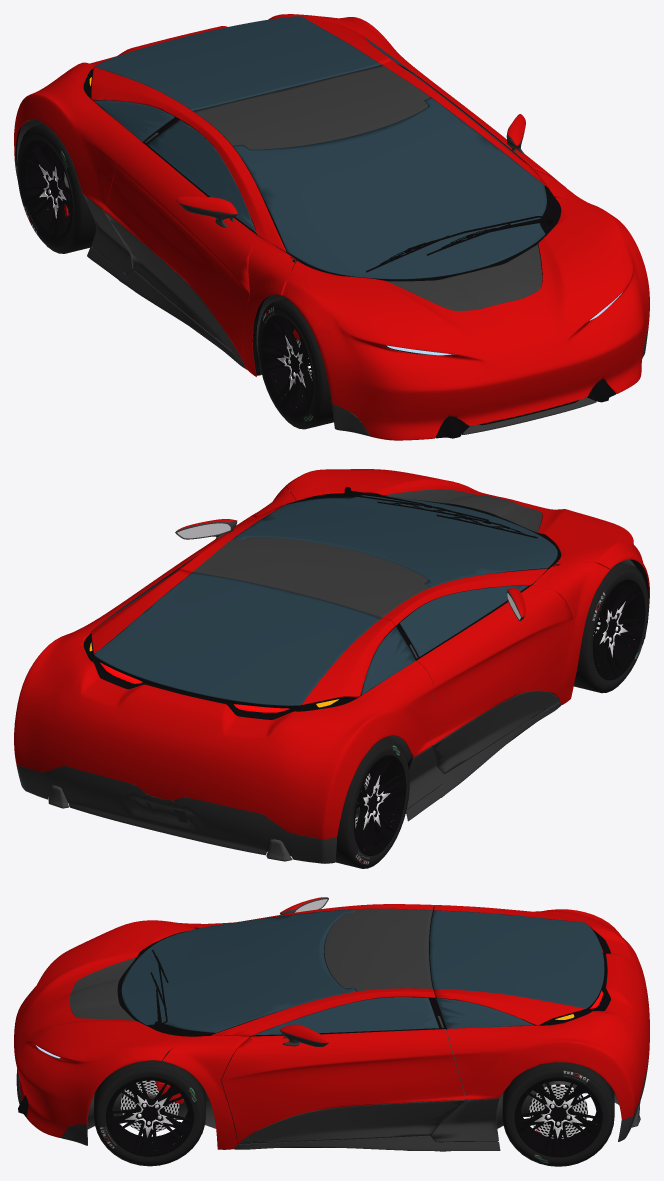
The model's file is concept-car.glb.
3 views of the same model, one above another, from view 1: azimuth 30°, elevation 25°; view 2: azimuth 150°, elevation 25°; view 3: azimuth 270°, elevation 25° (orthographic). The views are drawn at different scales.
Visible parts, largest first — view 1: BodyHood, BodyWindshield, BodyRearwindow, BodyDoorRColor1, BodyRearPanelsColor1, BodyRoofPanel, BodyPillars, BodyPanelsColor2, BodyHoodTopgrill, BodyDoorRWindow, WheelRearRRim, WheelFrontRRim (+9 smaller); view 2: BodyRearPanelsColor1, BodyRearwindow, BodyWindshield, BodyPanelsColor2, BodyDoorRColor1, BodyRoofPanel, BodyHood, BodyPillars, BodyDoorRColor2, WheelFrontRRim, WheelRearRRim, BodyDoorRWindow (+7 smaller); view 3: BodyWindshield, BodyRearPanelsColor1, BodyDoorLColor1, BodyHood, BodyRearwindow, BodyRoofPanel, BodyPillars, BodyDoorLColor2, BodyPanelsColor2, WheelFrontLRim, WheelRearLRim, WheelFrontL (+12 smaller).
Part boxes in pixels (box(x1,y1,x2,y2)): BodyHood: box(282, 197, 649, 440); BodyWindshield: box(233, 97, 546, 279); BodyRearwindow: box(94, 16, 381, 110); BodyDoorRColor1: box(104, 142, 256, 361); BodyRearPanelsColor1: box(14, 14, 427, 209); BodyRoofPanel: box(193, 65, 430, 149); BodyPillars: box(175, 61, 595, 376); BodyPanelsColor2: box(15, 165, 648, 436); BodyHoodTopgrill: box(386, 244, 542, 310); BodyDoorRWindow: box(147, 120, 256, 232); WheelRearRRim: box(20, 140, 72, 240); WheelFrontRRim: box(261, 315, 313, 416); BodyRearPanelsColor1: box(14, 569, 433, 839); BodyRearwindow: box(94, 572, 380, 705); BodyWindshield: box(233, 495, 557, 587); BodyPanelsColor2: box(16, 635, 645, 863); BodyDoorRColor1: box(416, 585, 572, 745); BodyRoofPanel: box(193, 536, 430, 618); BodyHood: box(283, 469, 649, 607); BodyPillars: box(179, 487, 609, 704); BodyDoorRColor2: box(432, 690, 559, 773); WheelFrontRRim: box(593, 579, 645, 680); WheelRearRRim: box(354, 755, 406, 855); BodyDoorRWindow: box(399, 585, 528, 656); BodyWindshield: box(121, 909, 356, 1032); BodyRearPanelsColor1: box(434, 905, 649, 1119); BodyDoorLColor1: box(221, 1029, 465, 1144); BodyHood: box(14, 920, 195, 1137); BodyRearwindow: box(429, 910, 604, 1009); BodyRoofPanel: box(324, 908, 432, 991); BodyPillars: box(162, 904, 435, 1149); BodyDoorLColor2: box(239, 1100, 465, 1144); BodyPanelsColor2: box(16, 1054, 649, 1151); WheelFrontLRim: box(106, 1077, 193, 1156); WheelRearLRim: box(514, 1077, 602, 1157); WheelFrontL: box(94, 1058, 205, 1166).
Bounding box in the file's own units: 2.34 × 1.15 × 4.36.
22 materials, 5 textured.
